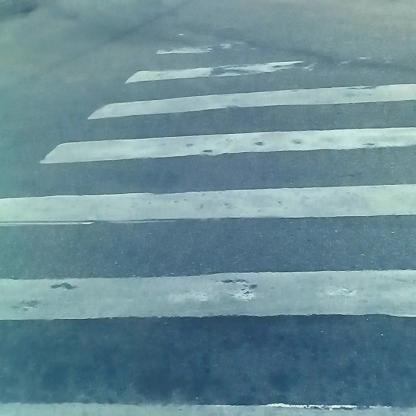crosswalk: (29, 50, 405, 347)
